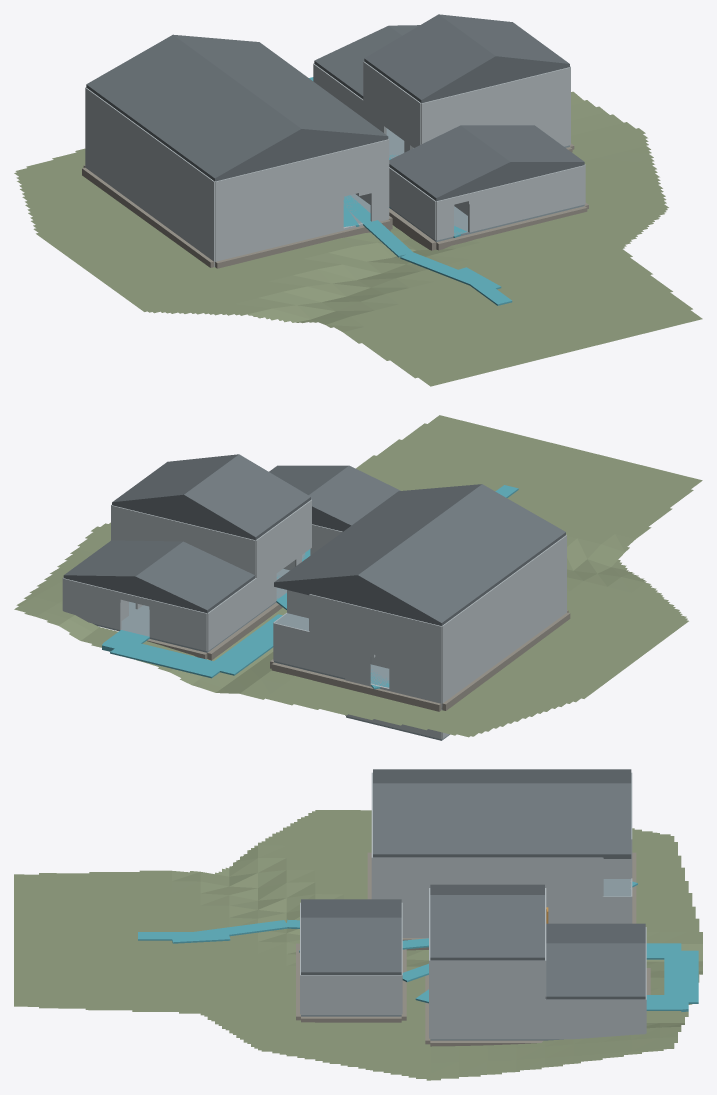
File: enclosed-roofs.glb
3 renders of one model, top to bottom at view 1: azimuth 30°, elevation 25°; view 2: azimuth 150°, elevation 25°; view 3: azimuth 270°, elevation 25°, orthographic. The views are drawn at different scales.
Visible parts, largest first — view 1: Saved editor circulation terrain FARMHOUSE, house roof west, house roof east, barn-loft roof west, workshop roof west, Wall parents S, Wall parlour S, Wall hayloft S, workshop roof east, barn-loft roof east, house gable south, Wall repair S (+26 smaller); view 2: Saved editor circulation terrain FARMHOUSE, house roof west, house roof east, barn-loft roof west, barn-stalls roof west, Wall linen N, workshop roof west, barn-stalls roof east, Wall cleaner N, barn-loft roof east, Wall hayloft N, house gable north (+25 smaller); view 3: Saved editor circulation terrain FARMHOUSE, house roof east, barn-loft roof east, workshop roof east, barn-stalls roof east, Wall upper-stair E, Wall loft-stair E, Wall loft-landing E, Wall equipment E, house roof west, Wall parts E, barn-stalls roof west (+15 smaller).
Part boxes in pixels (bbox=[...]): Saved editor circulation terrain FARMHOUSE: bbox=[14, 91, 702, 386]; house roof west: bbox=[86, 35, 301, 180]; house roof east: bbox=[173, 34, 388, 138]; barn-loft roof west: bbox=[364, 14, 495, 102]; workshop roof west: bbox=[389, 125, 510, 200]; Wall parents S: bbox=[215, 157, 314, 220]; Wall parlour S: bbox=[215, 197, 314, 259]; Wall hayloft S: bbox=[421, 79, 520, 142]; workshop roof east: bbox=[461, 125, 584, 164]; barn-loft roof east: bbox=[439, 14, 569, 66]; house gable south: bbox=[213, 131, 385, 181]; Wall repair S: bbox=[486, 174, 548, 228]; Saved editor circulation terrain FARMHOUSE: bbox=[14, 415, 702, 737]; house roof west: bbox=[358, 484, 565, 625]; house roof east: bbox=[274, 484, 481, 584]; barn-loft roof west: bbox=[184, 454, 310, 539]; barn-stalls roof west: bbox=[135, 541, 255, 612]; Wall linen N: bbox=[345, 603, 441, 663]; workshop roof west: bbox=[308, 465, 400, 526]; barn-stalls roof east: bbox=[63, 540, 182, 579]; Wall cleaner N: bbox=[273, 623, 345, 677]; barn-loft roof east: bbox=[112, 454, 238, 504]; Wall hayloft N: bbox=[159, 517, 255, 577]; house gable north: bbox=[274, 578, 442, 625]; Saved editor circulation terrain FARMHOUSE: bbox=[14, 810, 702, 1080]; house roof east: bbox=[373, 783, 631, 857]; barn-loft roof east: bbox=[430, 895, 544, 960]; workshop roof east: bbox=[301, 917, 401, 974]; barn-stalls roof east: bbox=[545, 943, 645, 999]; Wall upper-stair E: bbox=[459, 857, 602, 896]; Wall loft-stair E: bbox=[430, 1000, 544, 1039]; Wall loft-landing E: bbox=[430, 960, 544, 999]; Wall equipment E: bbox=[545, 999, 645, 1039]; house roof west: bbox=[373, 769, 631, 783]; Wall parts E: bbox=[344, 975, 401, 1014]; barn-stalls roof west: bbox=[546, 923, 645, 943].
Bounding box in the file's own units: 45 × 11.6 × 48.
